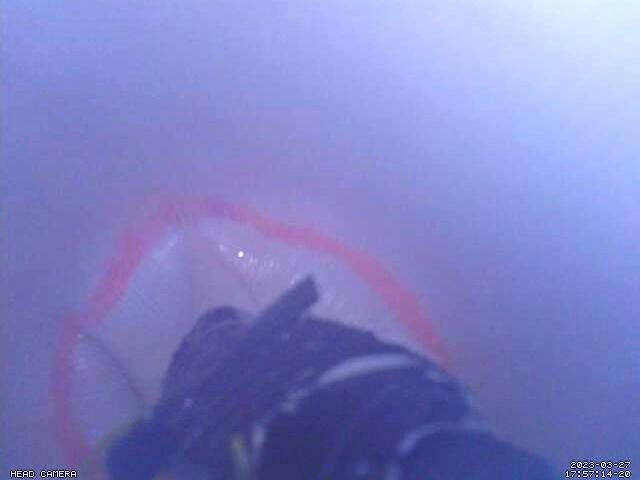head: (45, 195, 452, 467)
